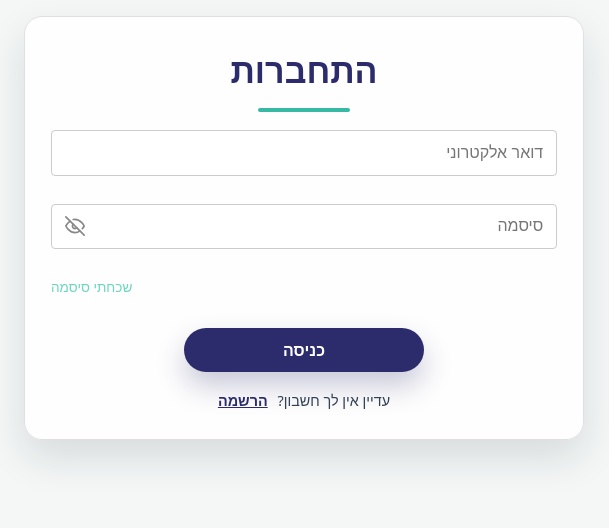
Scenario: Validation › shows error for empty email
Click the button "כניסה" at [304, 350], box [184,328,424,372]
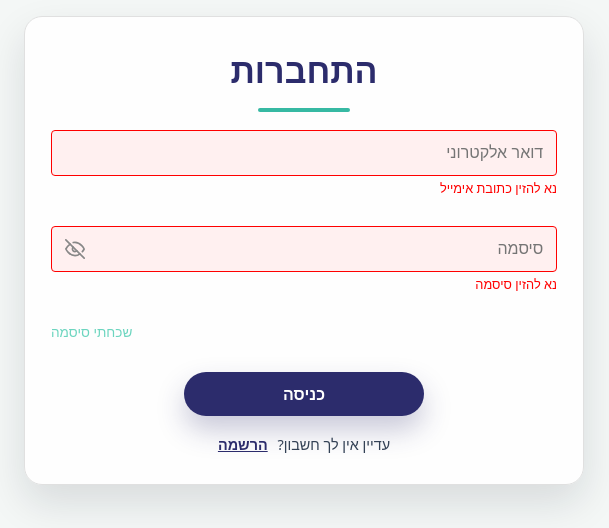
Check: the text "נא להזין כתובת אימייל" is shown, box [440,179,557,197]
